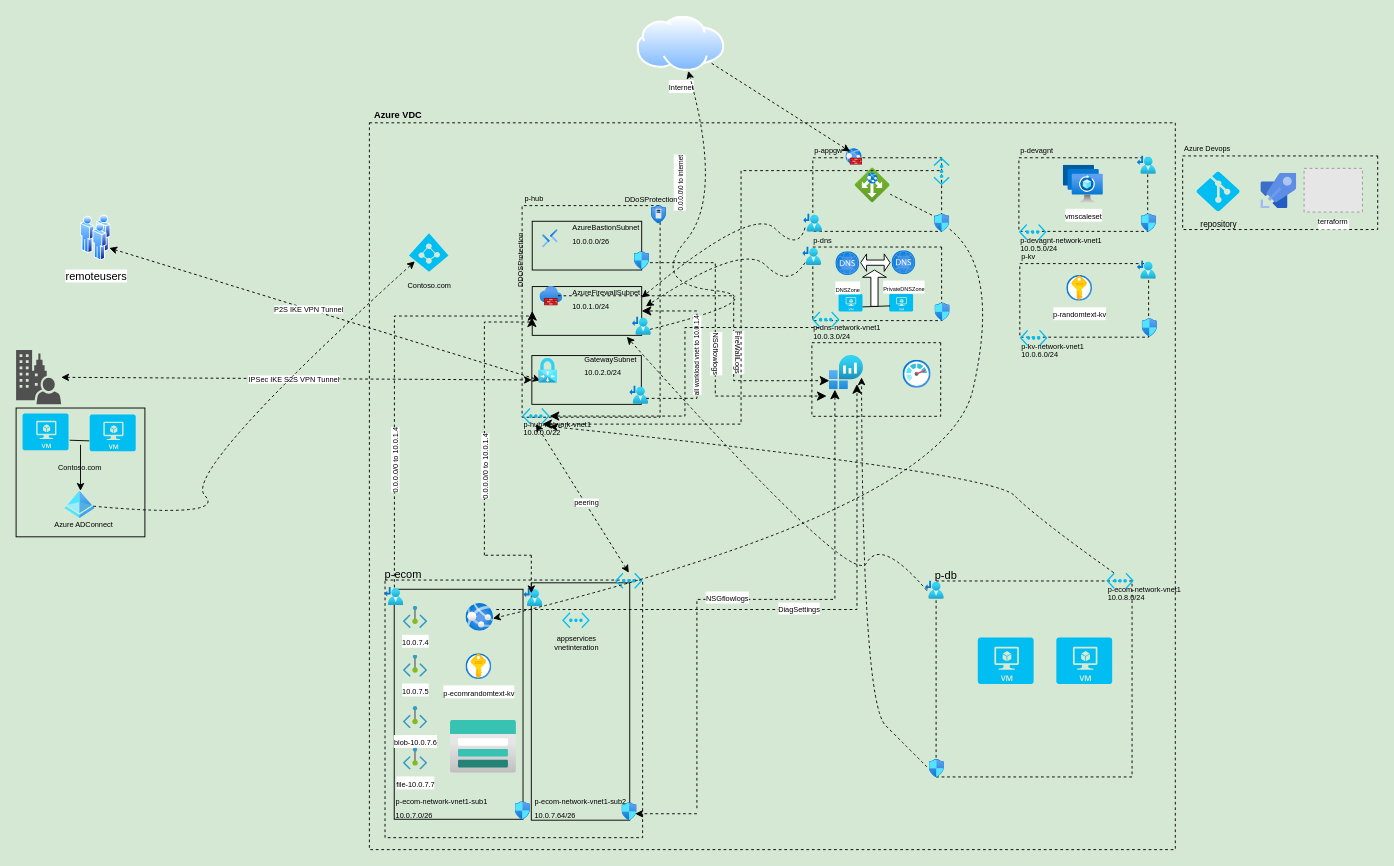
This 1394x866 diagram has some shape labels left out. Grey dashed boxes stand in for pictures. The shapes that lost their labels are listed below. From the top down, each one's centre as x and y in pixels, then its label:
the point at 872,184: AppGateway
the point at 941,171: p-appgw-network-vnet1 10.0.4.0/24
the point at 1278,190: pipelines
the point at 550,238: Azure Bastion
the point at 875,262: conditionalforwarder 168.63. 129.16
the point at 550,295: Azure Firewall DNS
the point at 547,370: Vnet Gateway
the point at 628,580: p-ecom-network-vnet1 10.0.7.0/24
the point at 479,617: p-ecomrandomtext1
the point at 483,746: p-ecomrandomtext-sa
